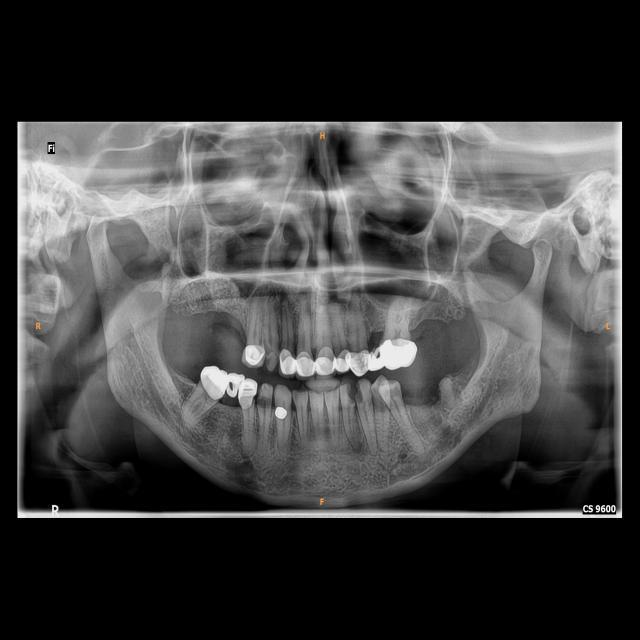dentin-curugu: (355, 379, 372, 407), (256, 393, 274, 414), (342, 382, 356, 407)
dolgu: (240, 346, 266, 370), (275, 405, 289, 421)
kaplama: (198, 362, 229, 402), (383, 337, 418, 371), (348, 345, 368, 377), (238, 380, 259, 409), (315, 347, 335, 375), (296, 351, 314, 376), (280, 350, 296, 374), (334, 348, 350, 372)
kopru: (360, 339, 400, 373), (215, 368, 251, 404)
